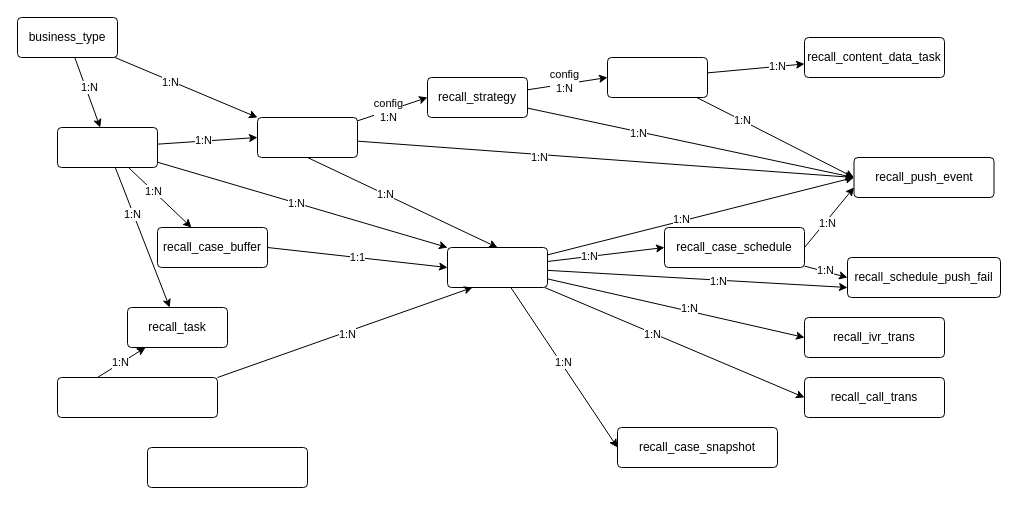
Some shapes in this 1018 by 505 pixel diagram are drawn without their labels. The centre of each missing label's shape, as x and y in pixels:
case_tag: point 107,147
recall_blacklist: point 227,467
recall_campaign_template: point 137,397
recall_case: point 497,267
recall_content: point 657,77
stage: point 307,137
